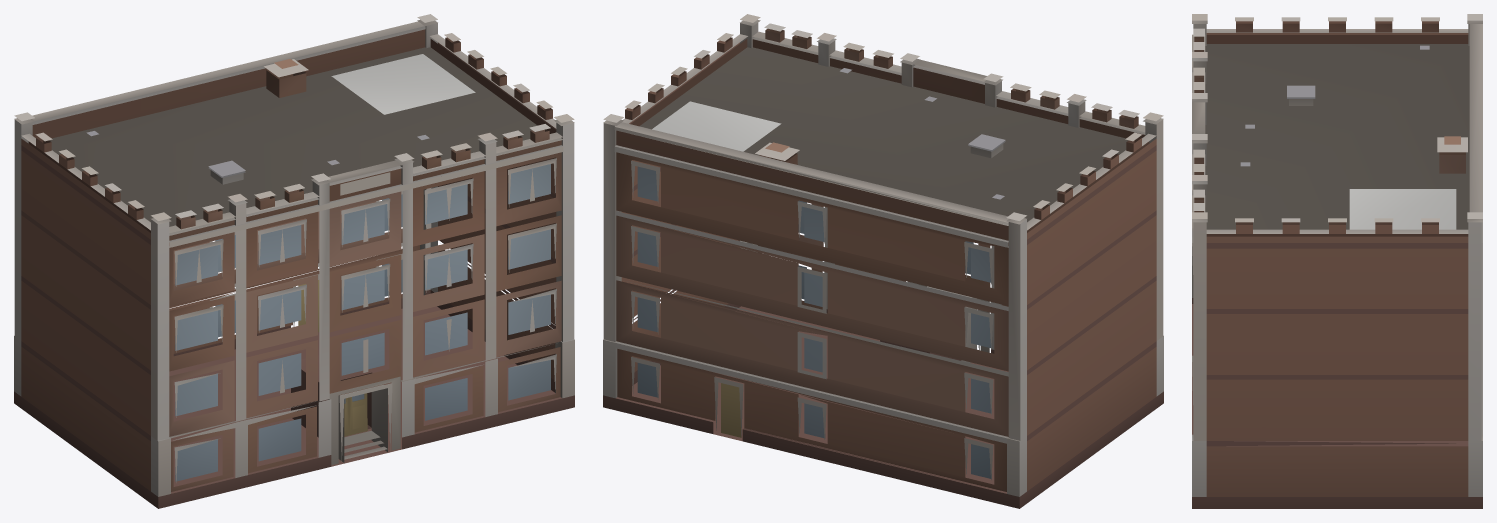
The model's file is school.lod.glb.
3 views of the same model, side by side, from view 1: azimuth 30°, elevation 25°; view 2: azimuth 150°, elevation 25°; view 3: azimuth 270°, elevation 25° (orthographic).
Visible parts, largest first — view 1: school.001; view 2: school.001; view 3: school.001.
Part boxes in pixels (x1,y1,x2,y2): school.001: (14,14,574,508); school.001: (603,14,1163,508); school.001: (1192,14,1482,508).
Bounding box in the file's own units: 20 × 13.2 × 12.
